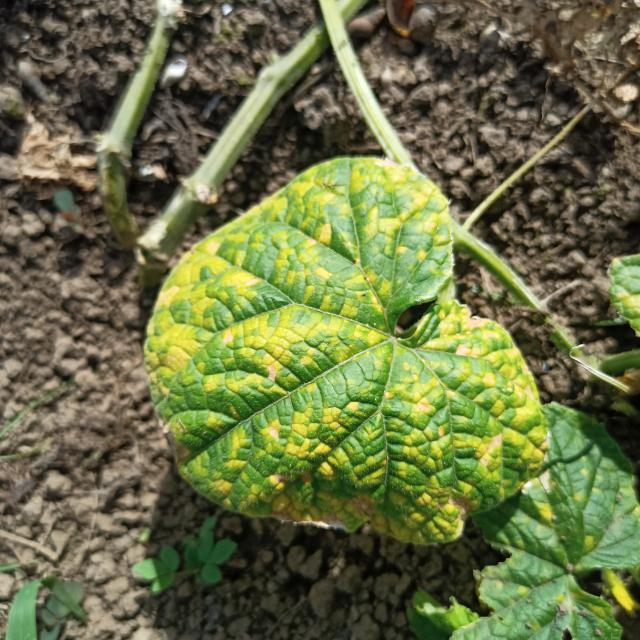disease_cucumber: (154, 163, 544, 534)
